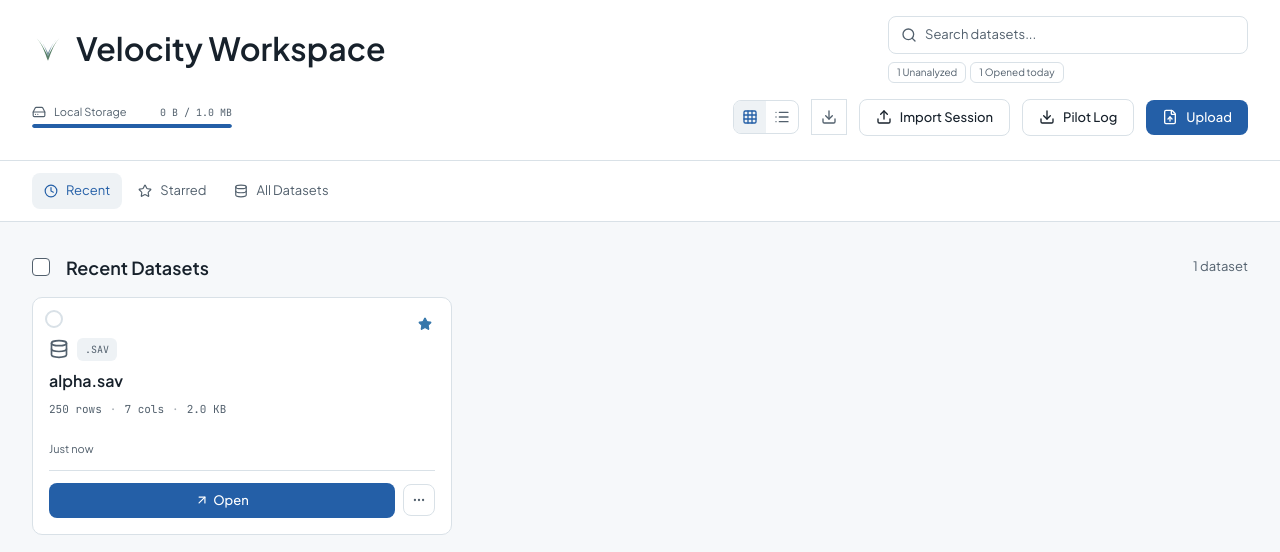
Test: WorkspaceView › shows feedback when starred search has no matches
Click the button "Starred" at (172, 191), box x1=126 y1=173 x2=218 y2=208
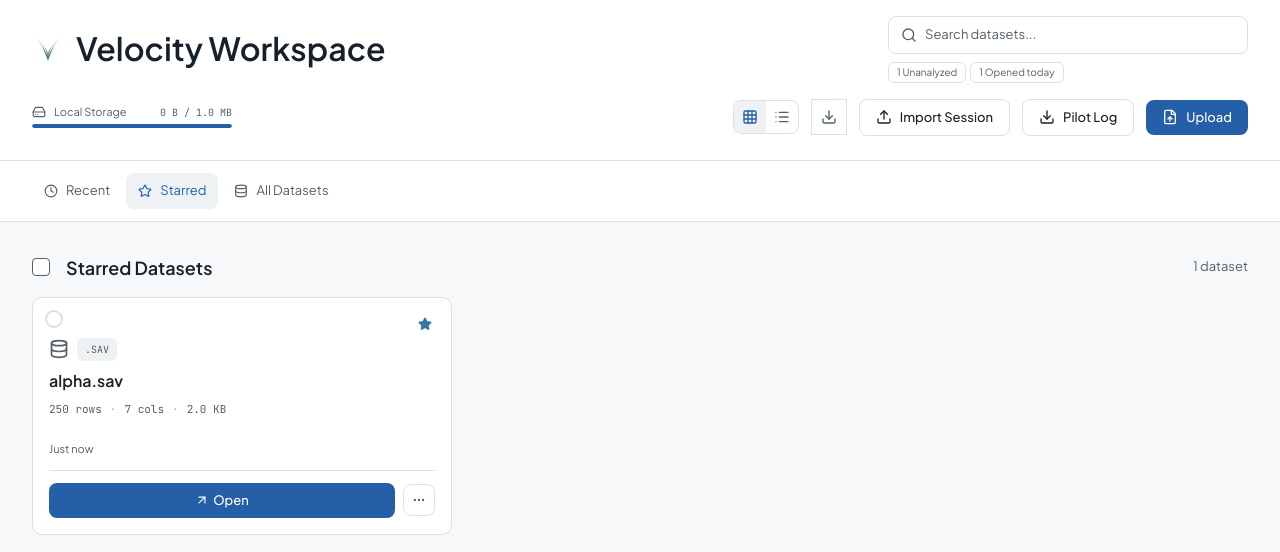
Type "no-match-term" into the field with test id "workspace-search-input" at (1080, 35), box x1=925 y1=25 x2=1235 y2=44
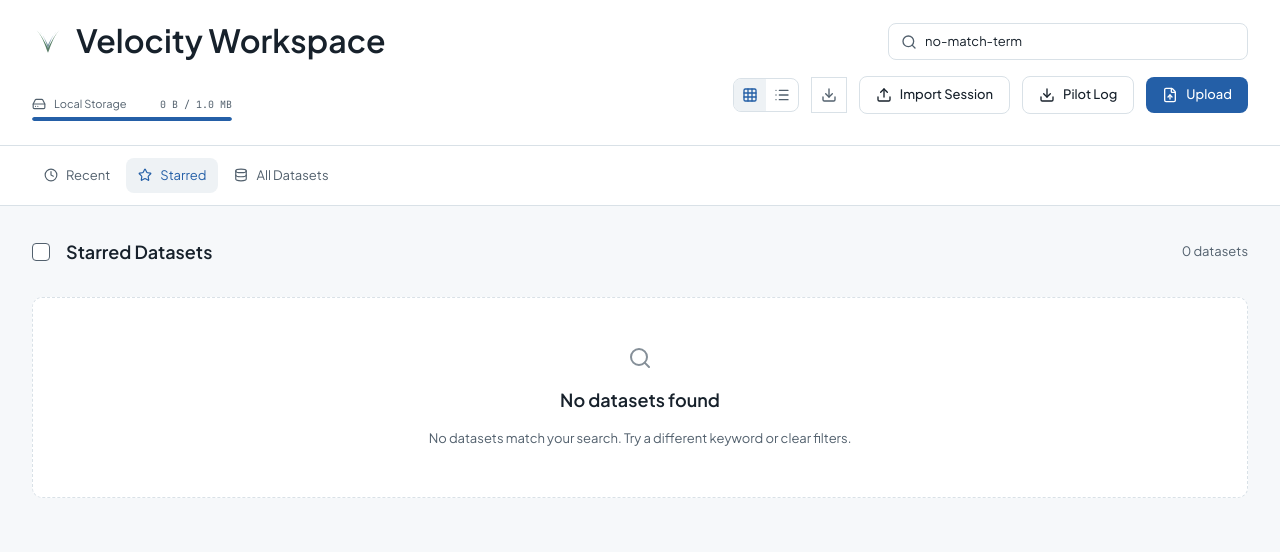
Result: the element with test id "workspace-filter-empty-state" is shown at x1=32 y1=297 x2=1248 y2=498
Result: the heading "No datasets found" is shown at x1=560 y1=386 x2=720 y2=413
